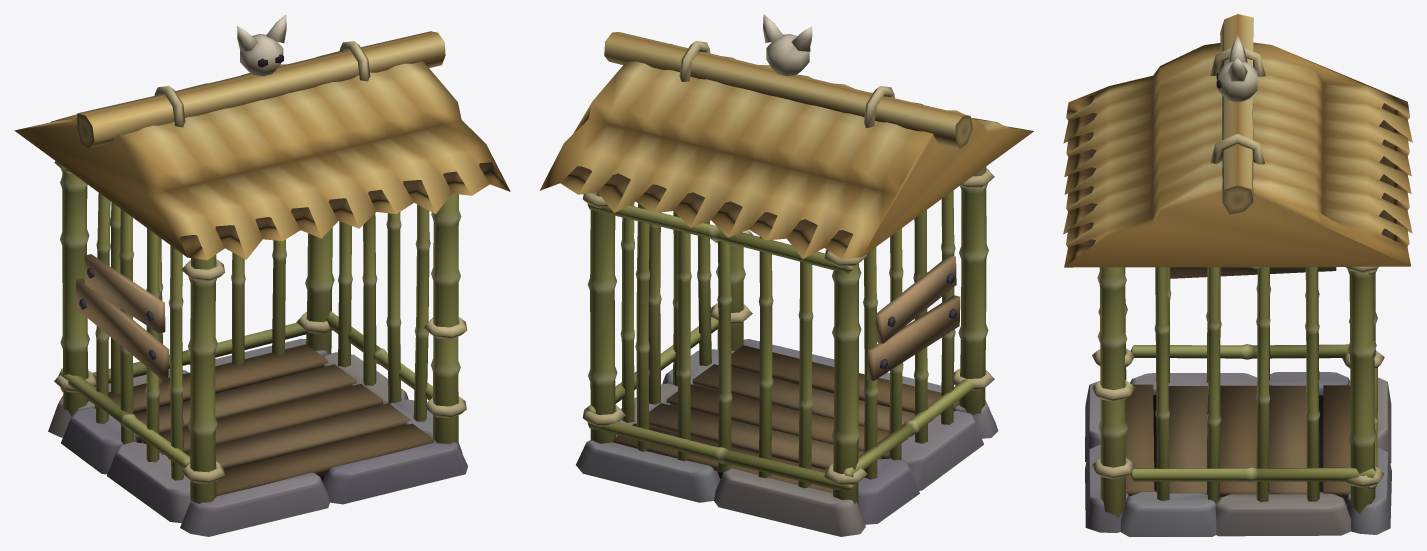
The model's file is prop-siege-cage-v1.glb.
3 renders of one model, left to right at view 1: azimuth 30°, elevation 25°; view 2: azimuth 150°, elevation 25°; view 3: azimuth 270°, elevation 25°, orthographic.
Visible parts, largest first — view 1: body; view 2: body; view 3: body.
Part boxes in pixels (left/top/right/bottom): body: left=14, top=14, right=510, bottom=536; body: left=539, top=14, right=1033, bottom=536; body: left=1063, top=14, right=1412, bottom=536.
Bounding box in the file's own units: 1.61 × 1.86 × 1.4.
